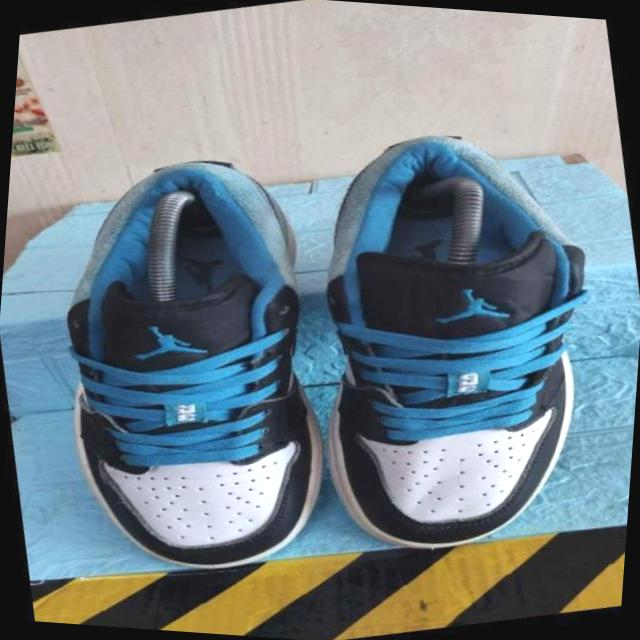nike_fake_jordan: (263, 101, 632, 580), (12, 133, 375, 605)
